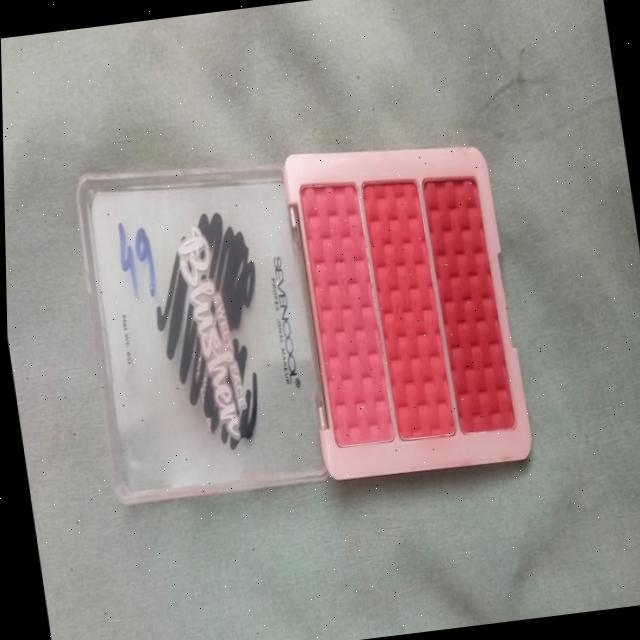blush: (288, 172, 401, 470), (413, 160, 526, 456), (348, 150, 455, 458)
